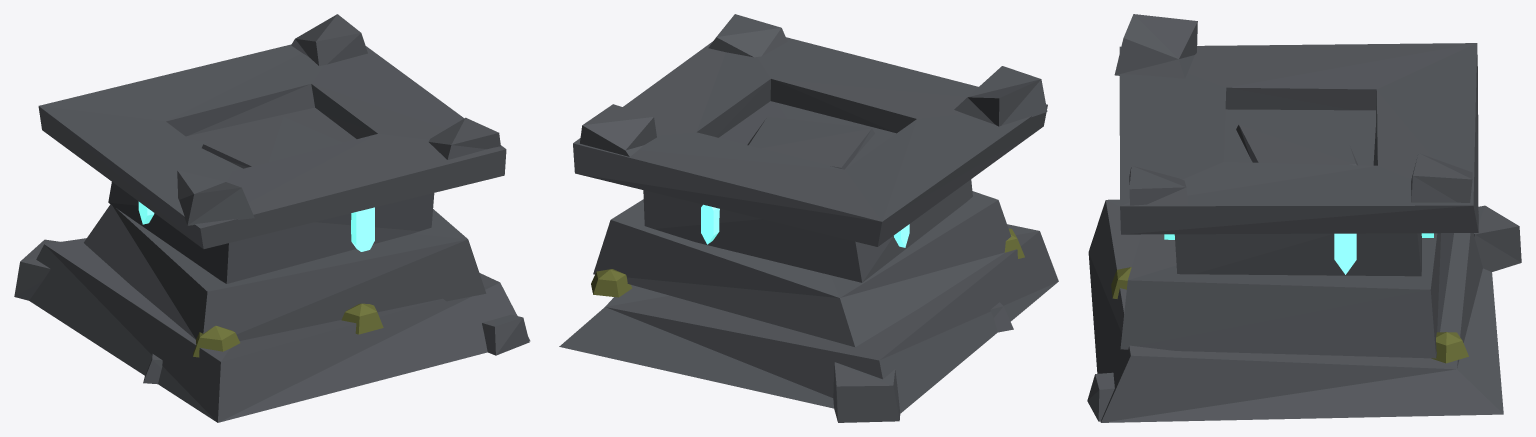
Rendered from CP_HatchAltar.fbx.
The picture shows the model from 3 angles, left to right: view 1: azimuth 30°, elevation 25°; view 2: azimuth 150°, elevation 25°; view 3: azimuth 270°, elevation 25°; orthographic projection. The views are drawn at different scales.
Visible parts, largest first — view 1: CP_HatchAltar_Stone, CP_HatchAltar_Moss, CP_HatchAltar_Neon_Rune; view 2: CP_HatchAltar_Stone, CP_HatchAltar_Moss, CP_HatchAltar_Neon_Rune; view 3: CP_HatchAltar_Stone, CP_HatchAltar_Moss, CP_HatchAltar_Neon_Rune.
Boxes of the visible parts, x1,y1,x2,y2 form: CP_HatchAltar_Stone: (14, 14, 530, 422); CP_HatchAltar_Moss: (193, 303, 383, 357); CP_HatchAltar_Neon_Rune: (138, 201, 374, 251); CP_HatchAltar_Stone: (559, 14, 1058, 422); CP_HatchAltar_Moss: (591, 228, 1024, 297); CP_HatchAltar_Neon_Rune: (701, 204, 909, 247); CP_HatchAltar_Stone: (1087, 14, 1521, 422); CP_HatchAltar_Moss: (1111, 267, 1468, 363); CP_HatchAltar_Neon_Rune: (1164, 233, 1433, 274).
Size of the model in its own units: 5 by 3 by 5.
